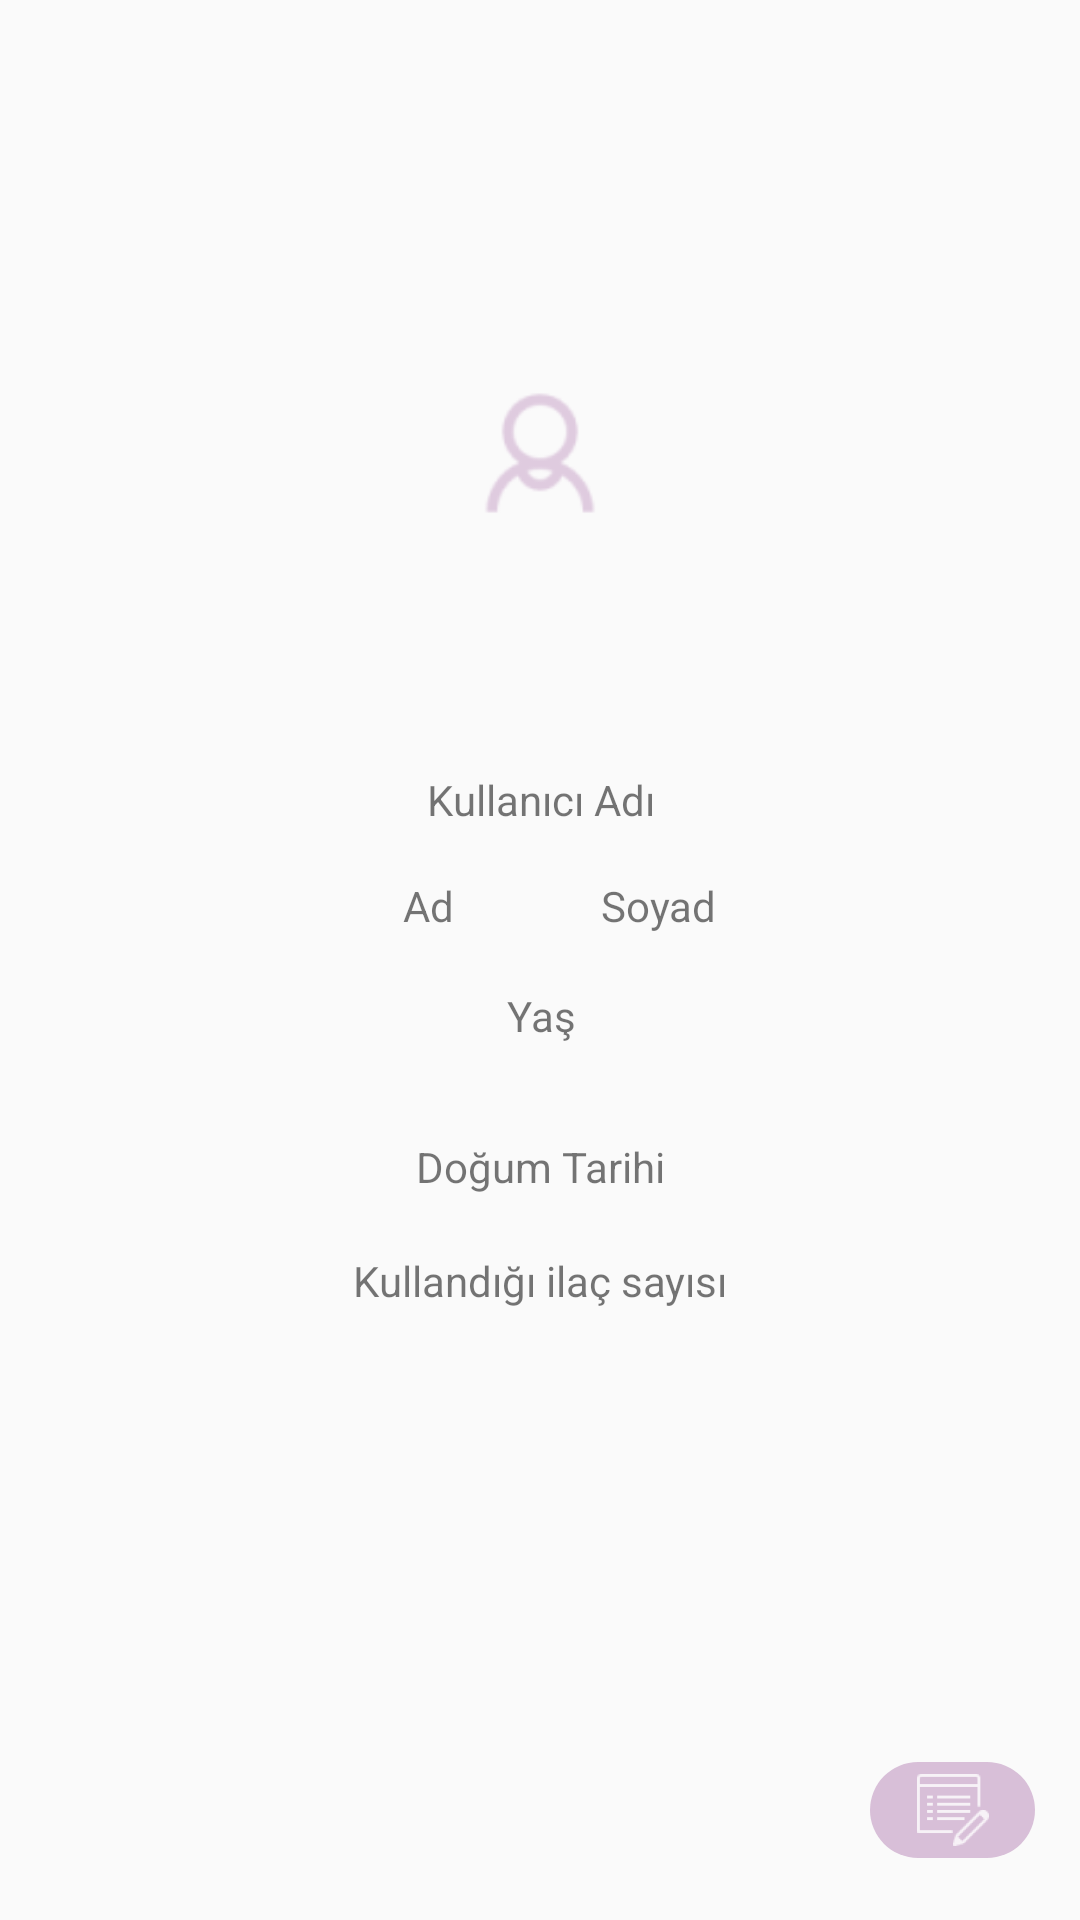

Icons on this 1080 × 1920 Android screen, each with the point to tap as [x,y]:
Edit: [952,1810]
Profil: [540,453]
